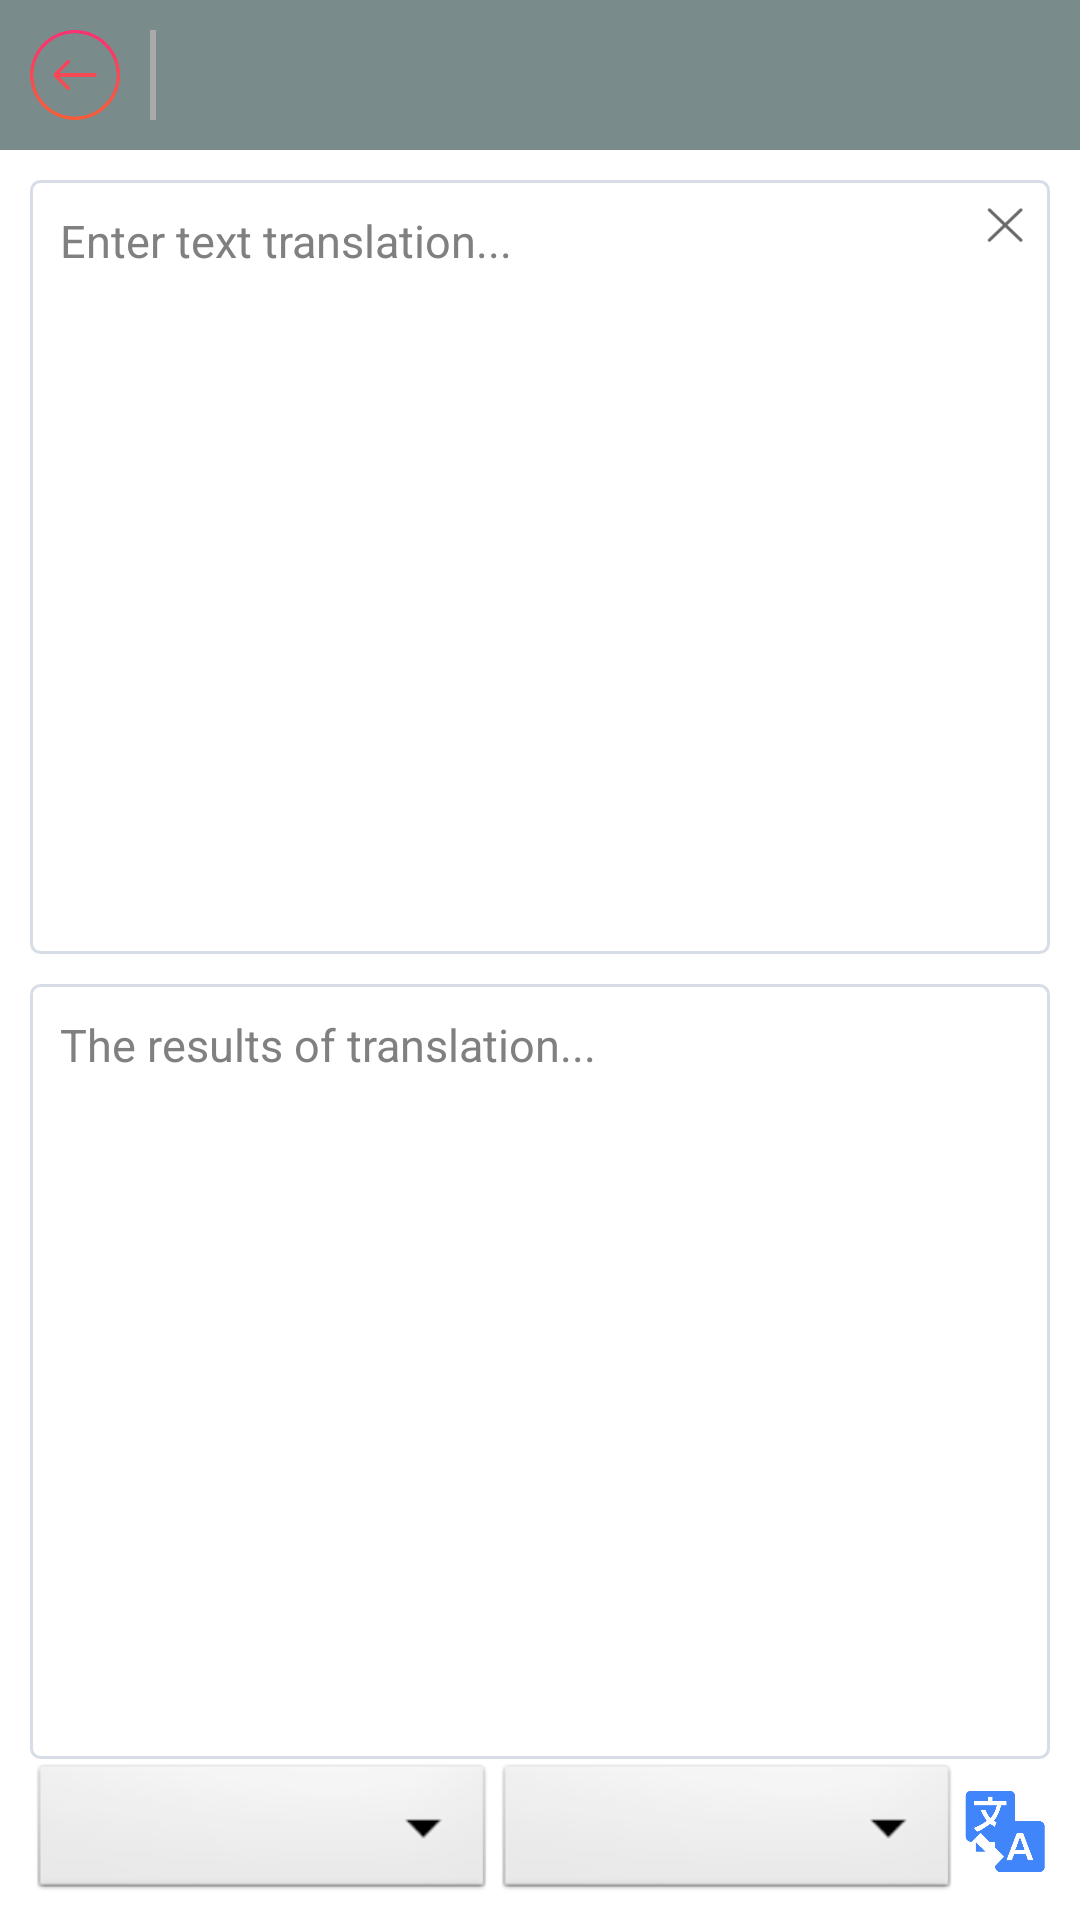

Icons on this 1080px×1920px Android screen, each with the point to tap as [x,y]:
clear: [1005,225]
return: [75,75]
